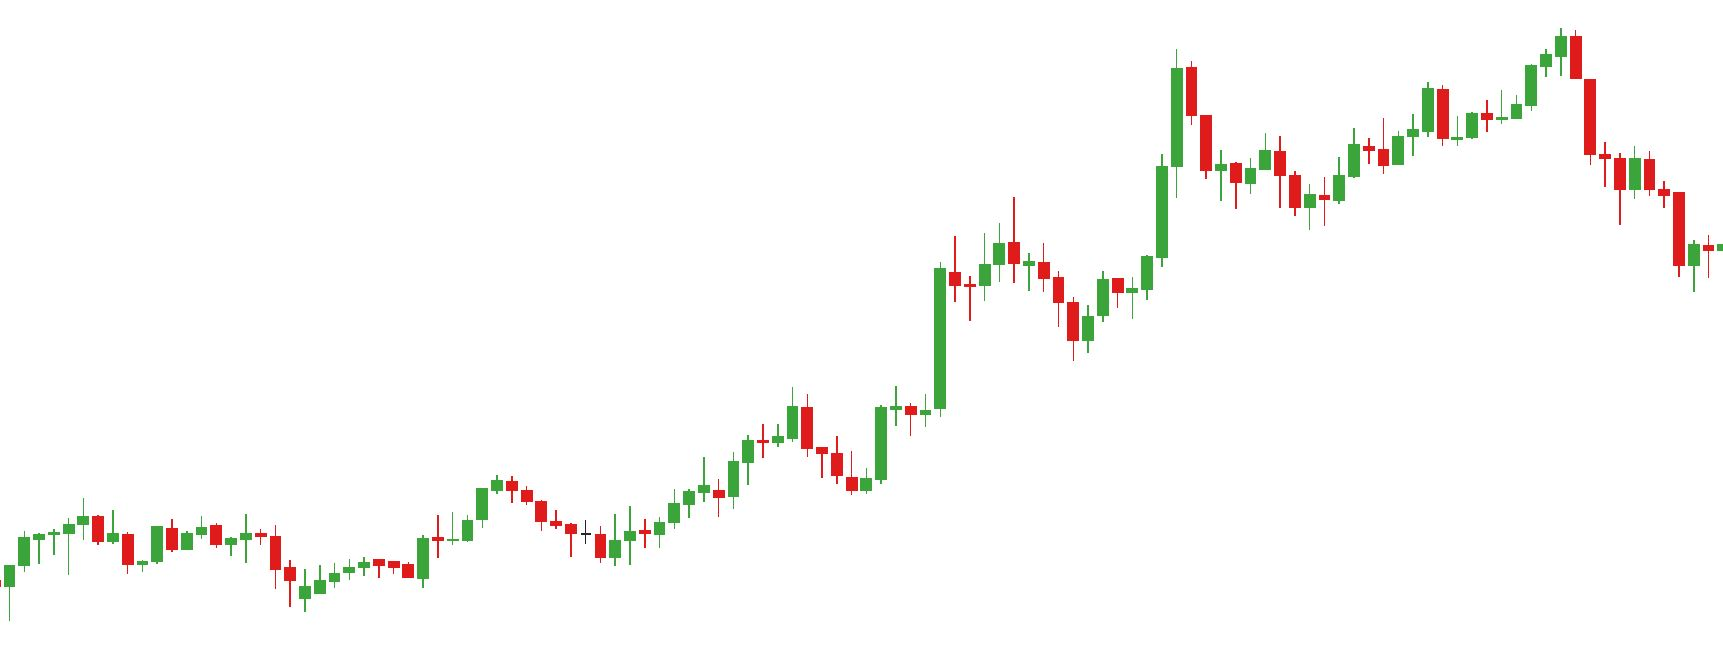buy: (961, 252, 1094, 361), (741, 431, 872, 496)
